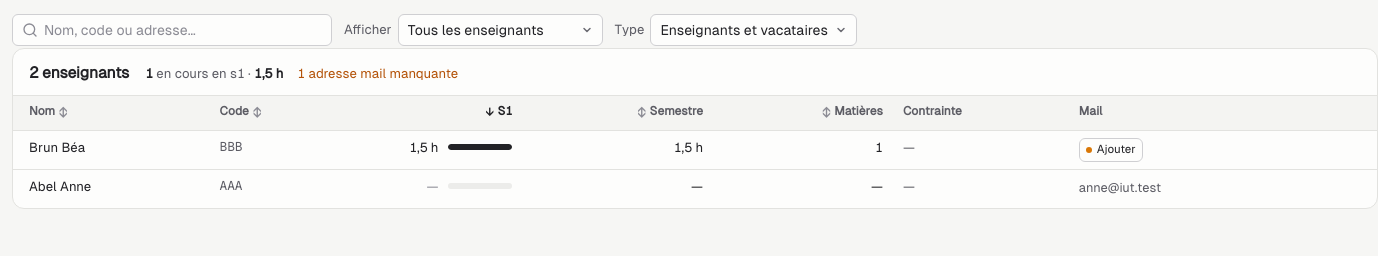
Test case: AnnuaireEnseignants — compléter un mail manquant › garde le champ ouvert avec l'erreur du serveur (adresse déjà attribuée)
Click the button with aria-label "Ajouter — Adresse mail de Brun Béa".
click(1111, 150)  # box x1=1079 y1=138 x2=1143 y2=162
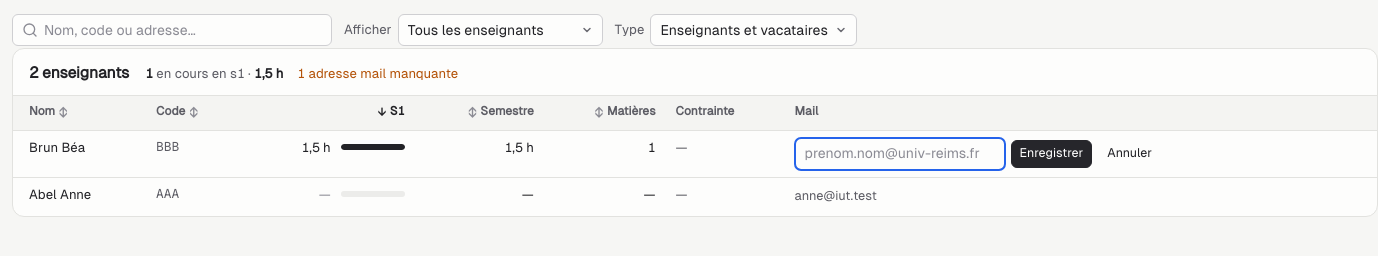
Type "anne@iut.test" into the field named "Adresse mail de Brun Béa".
click(900, 154); type("anne@iut.test")  # box x1=795 y1=138 x2=1005 y2=170
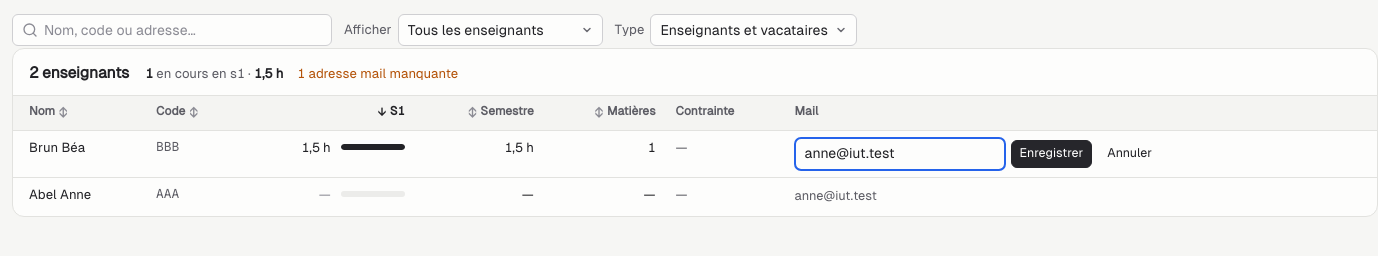
Submit the form named "Adresse mail de Brun Béa", box x1=795 y1=138 x2=1161 y2=170
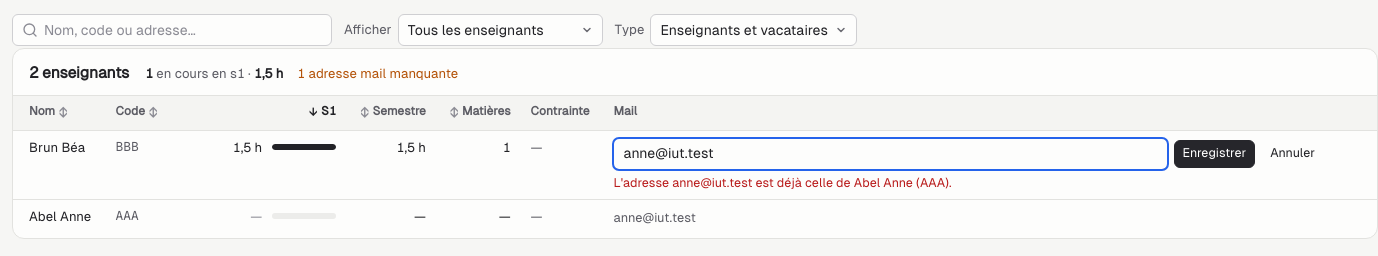
Result: the message shows "déjà celle de Abel Anne" at x1=614 y1=176 x2=952 y2=190
